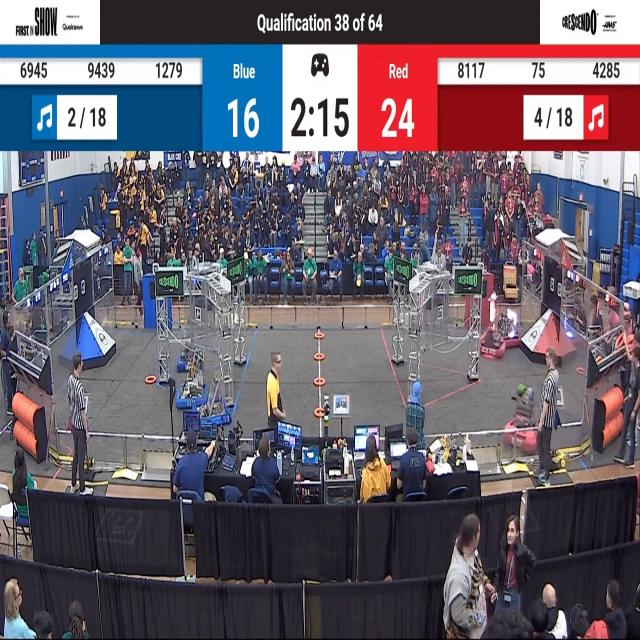Robot: (174, 344, 208, 413), (480, 307, 517, 361), (498, 308, 520, 345)
